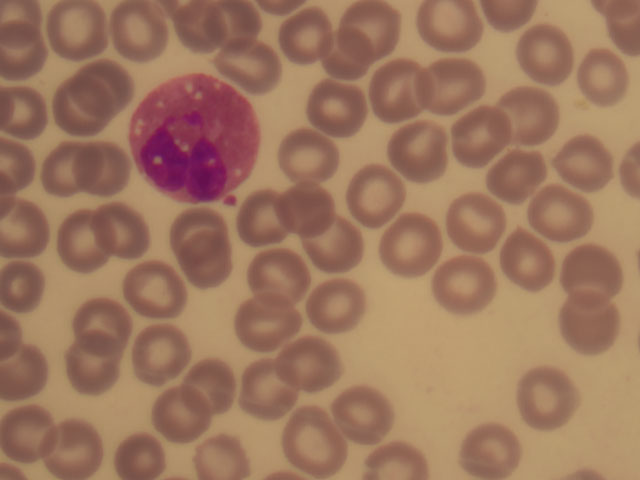RBC: (277, 128, 341, 187), (303, 81, 367, 140), (365, 60, 429, 119), (420, 57, 484, 116), (448, 103, 512, 162), (386, 122, 450, 181), (342, 164, 406, 223), (377, 212, 441, 271), (429, 255, 493, 314), (443, 188, 507, 247), (482, 143, 546, 202), (525, 180, 589, 239), (551, 134, 615, 193), (499, 81, 563, 140), (514, 23, 578, 82), (318, 23, 382, 82), (269, 7, 333, 66), (224, 31, 288, 90), (111, 1, 175, 60), (45, 1, 109, 60), (70, 60, 134, 119), (50, 78, 114, 137), (27, 140, 91, 199), (76, 139, 140, 198), (48, 214, 112, 273), (94, 204, 158, 263), (123, 262, 187, 321), (180, 233, 244, 292), (165, 201, 229, 260), (225, 190, 289, 249), (274, 182, 338, 241), (300, 213, 364, 272), (245, 244, 309, 303), (243, 292, 307, 351), (308, 277, 372, 336), (286, 333, 350, 392), (235, 358, 299, 417), (184, 357, 248, 416), (152, 388, 216, 447), (127, 323, 191, 382), (71, 294, 135, 353), (65, 338, 129, 397), (44, 419, 108, 478), (100, 421, 164, 480), (187, 421, 251, 480), (279, 412, 343, 471), (338, 377, 402, 436), (463, 421, 527, 480), (514, 372, 578, 431), (555, 293, 619, 352), (562, 243, 626, 302), (495, 230, 559, 289), (576, 47, 640, 106), (1, 82, 64, 141), (1, 404, 64, 463), (420, 1, 484, 59), (349, 1, 413, 59), (178, 1, 242, 59), (1, 200, 55, 259), (1, 24, 50, 81), (1, 84, 50, 141), (1, 258, 49, 316), (1, 343, 49, 401)
WBC: (127, 78, 262, 208)
